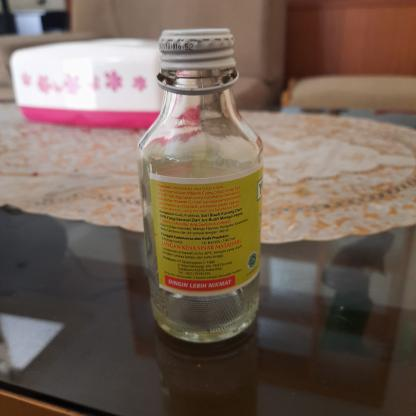keyboard: (131, 24, 270, 350)
